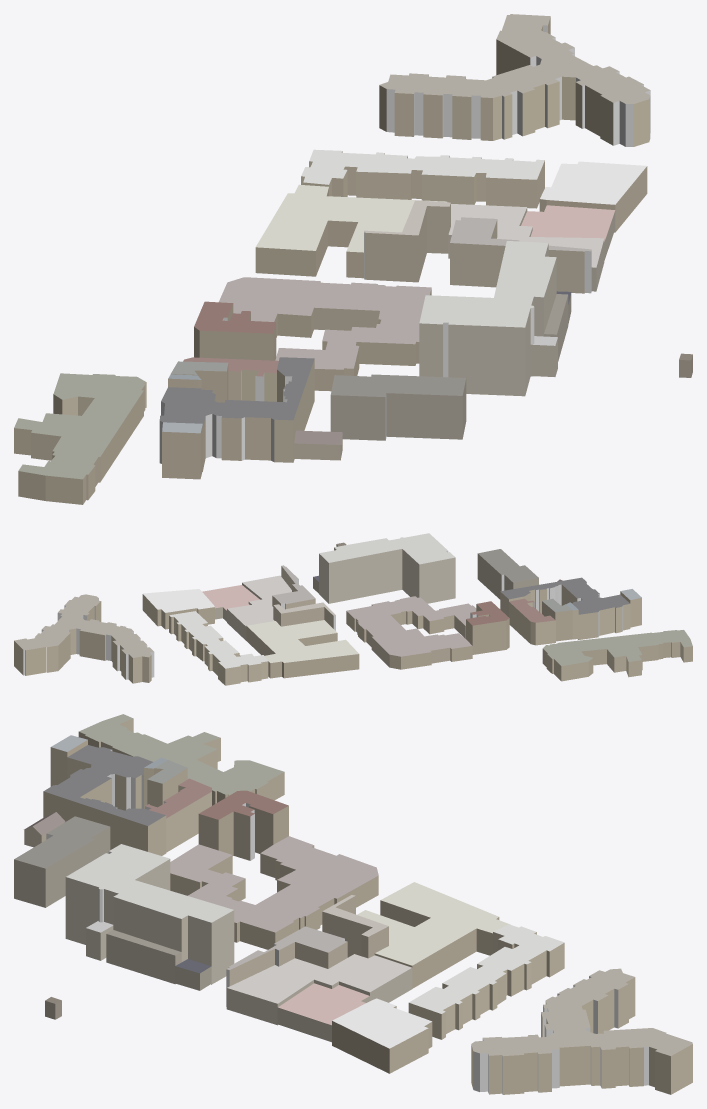
The picture shows the model from 3 angles, top to bottom: view 1: azimuth 30°, elevation 25°; view 2: azimuth 150°, elevation 25°; view 3: azimuth 270°, elevation 25°; orthographic projection. The views are drawn at different scales.
Parts seen in each view (by area): view 1: tuile; view 2: tuile; view 3: tuile.
Part boxes in pixels (x1,y1,x2,y2): tuile: (14,14,692,504); tuile: (14,533,692,685); tuile: (14,714,692,1094).
Bounding box in the file's own units: 292 × 26.54 × 228.
